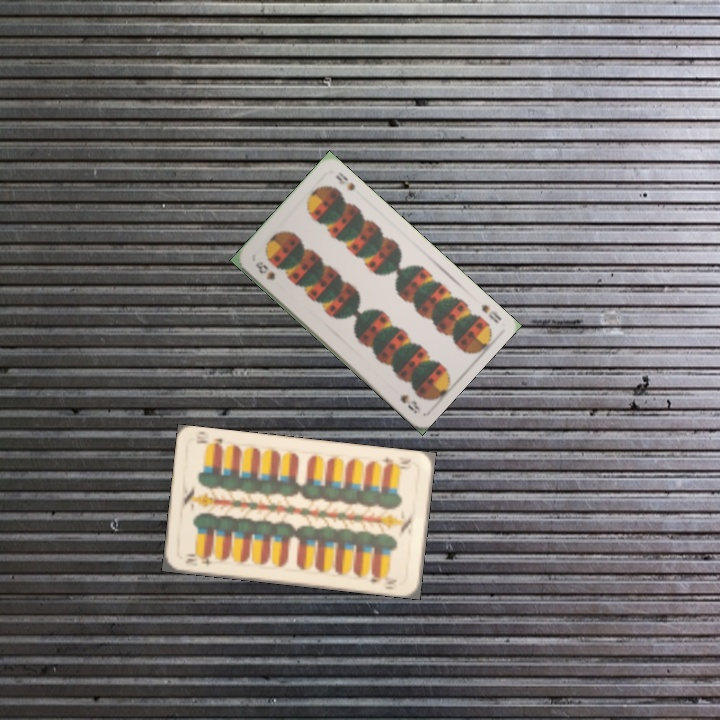E10: (181, 550, 215, 568), (379, 453, 414, 470)
S8: (251, 257, 278, 283), (477, 300, 504, 326)
